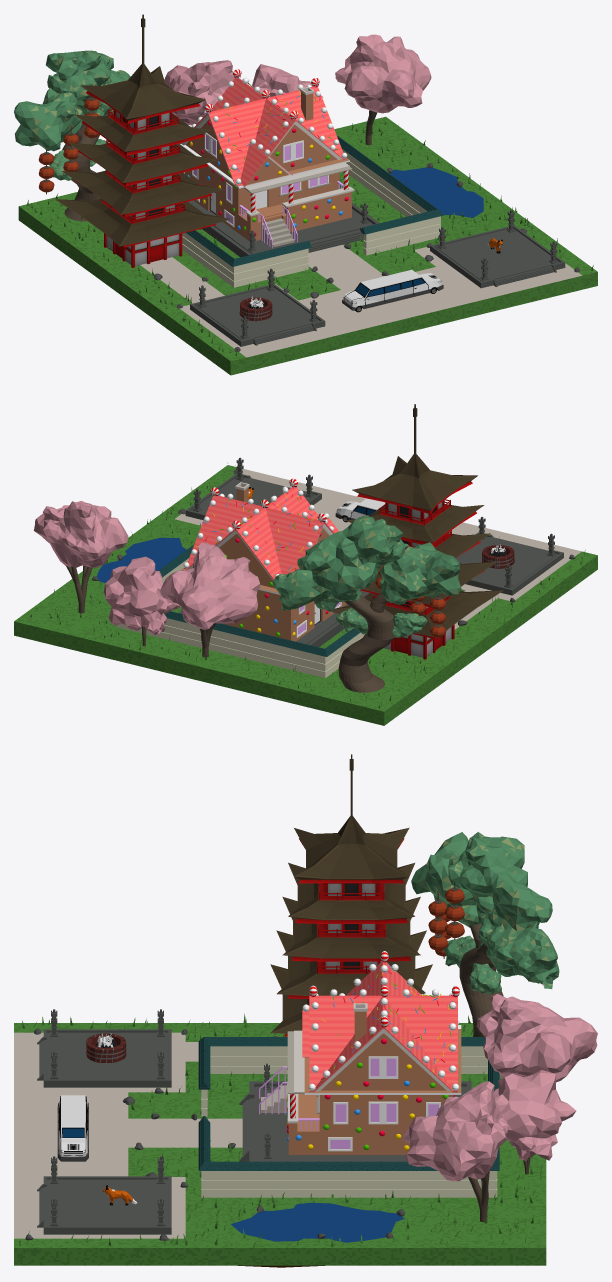
3 renders of one model, top to bottom at view 1: azimuth 30°, elevation 25°; view 2: azimuth 150°, elevation 25°; view 3: azimuth 270°, elevation 25°, orthographic. The views are drawn at different scales.
Visible parts, largest first — view 1: Cube.005, Cube.1203, VEHICLES_LIMOUSINE, OBJRANDOM_CAMPFIRE; view 2: Cube.005, Cube.1203, VEHICLES_LIMOUSINE, OBJRANDOM_CAMPFIRE; view 3: Cube.005, Cube.1203, VEHICLES_LIMOUSINE, OBJRANDOM_CAMPFIRE.
Part boxes in pixels (x1,y1,x2,y2): Cube.005: (14,14,597,375); Cube.1203: (179,69,354,248); VEHICLES_LIMOUSINE: (342,269,443,312); OBJRANDOM_CAMPFIRE: (239,296,272,321); Cube.005: (14,404,597,725); Cube.1203: (181,478,346,641); VEHICLES_LIMOUSINE: (335,498,385,522); OBJRANDOM_CAMPFIRE: (482,544,514,568); Cube.005: (14,754,597,1265); Cube.1203: (259,951,461,1154); VEHICLES_LIMOUSINE: (57,1095,88,1161); OBJRANDOM_CAMPFIRE: (86,1032,126,1062).
Bounding box in the file's own units: 4528 × 2756 × 4389.
50 materials, 6 textured.
